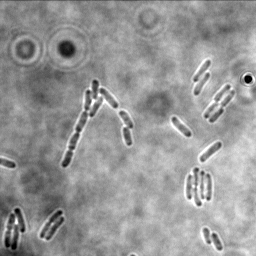Dividing: (203, 83, 232, 119), (208, 89, 236, 124), (39, 208, 63, 239), (4, 212, 16, 249)
Microcolony: (60, 78, 120, 168), (185, 166, 214, 207)
Rod: (44, 216, 66, 242), (198, 140, 223, 162), (171, 115, 193, 138), (192, 59, 212, 83), (193, 71, 212, 96), (13, 207, 27, 233), (10, 223, 21, 251), (119, 109, 135, 128), (210, 231, 224, 251), (200, 226, 214, 246), (122, 126, 134, 146)
